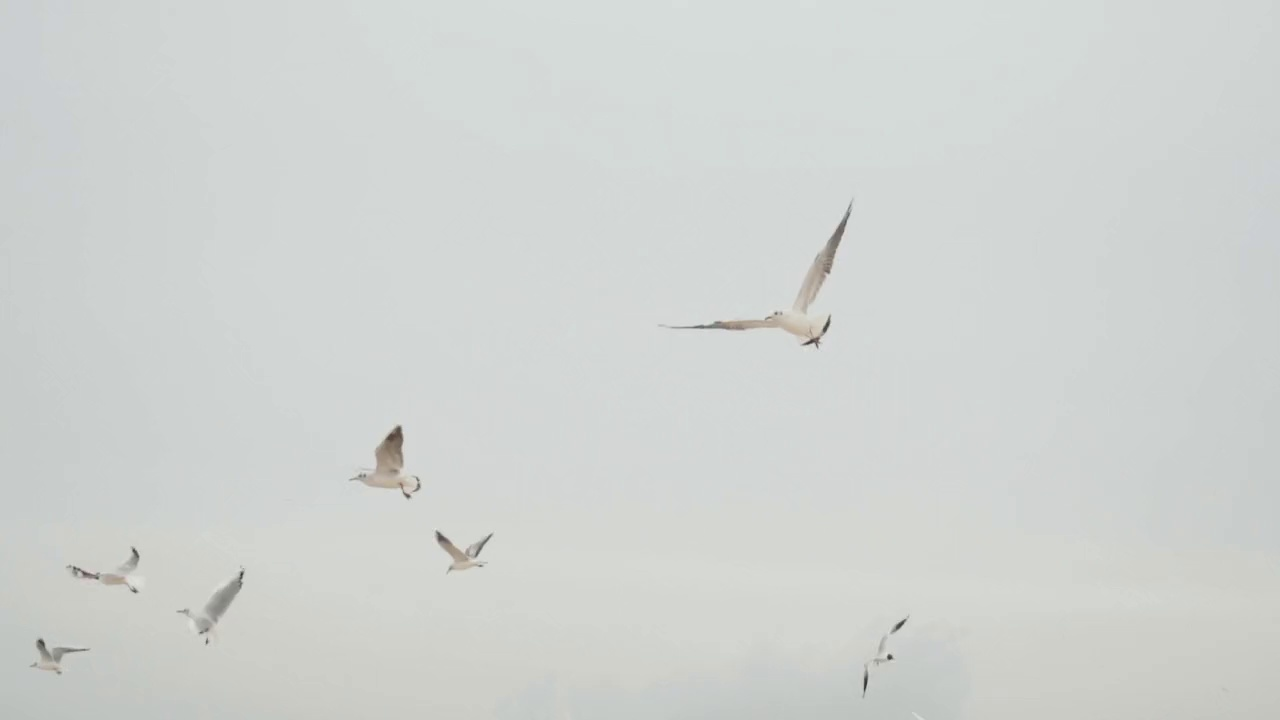bird: (656, 192, 855, 349), (347, 425, 422, 498), (175, 573, 244, 645), (857, 616, 909, 697), (65, 547, 144, 597), (22, 637, 90, 674), (435, 531, 492, 571)
